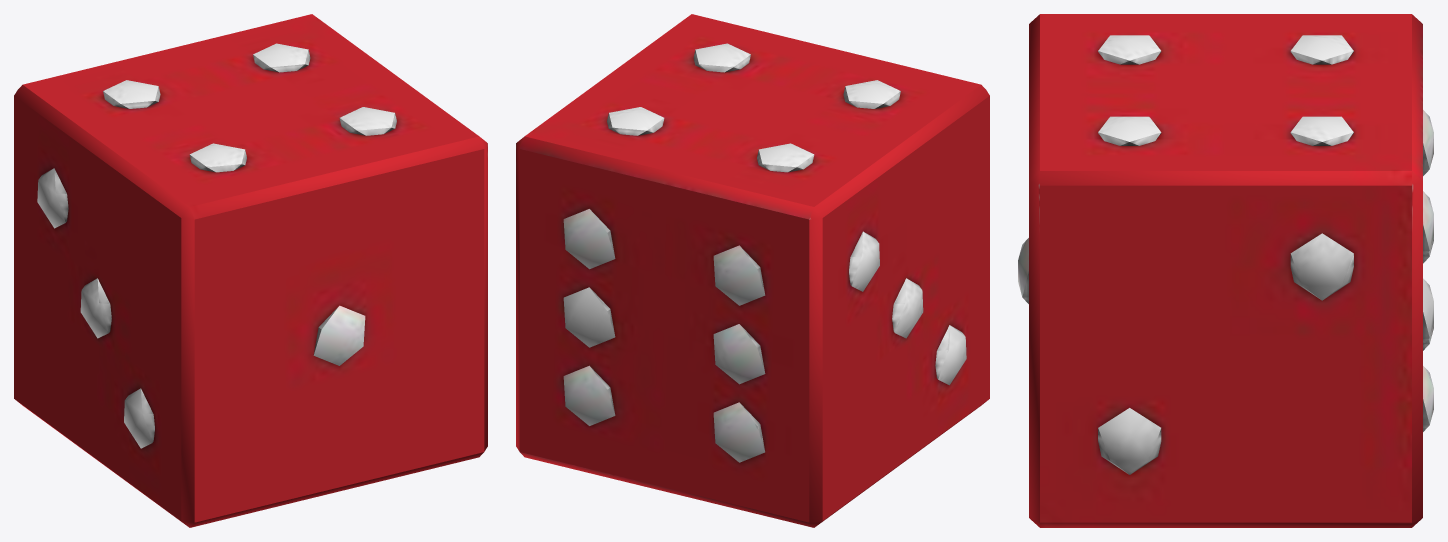
File: dado.glb
The picture shows the model from 3 angles, left to right: view 1: azimuth 30°, elevation 25°; view 2: azimuth 150°, elevation 25°; view 3: azimuth 270°, elevation 25°; orthographic projection. The views are drawn at different scales.
Visible parts, largest first — view 1: dado; view 2: dado; view 3: dado.
Part boxes in pixels (x1,y1,x2,y2): dado: (14,14,487,527); dado: (516,14,989,527); dado: (1018,14,1433,527).
Bounding box in the file's own units: 0.9532 × 0.9595 × 0.9506.
Materials: 1 (1 with a texture image).
